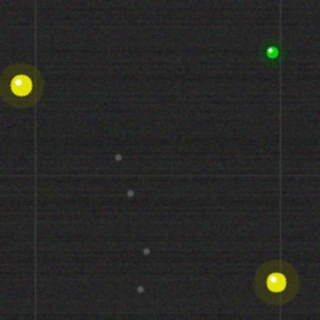green_normal: (264, 44, 280, 60)
yellow_warning: (8, 72, 34, 98), (264, 270, 288, 294)
